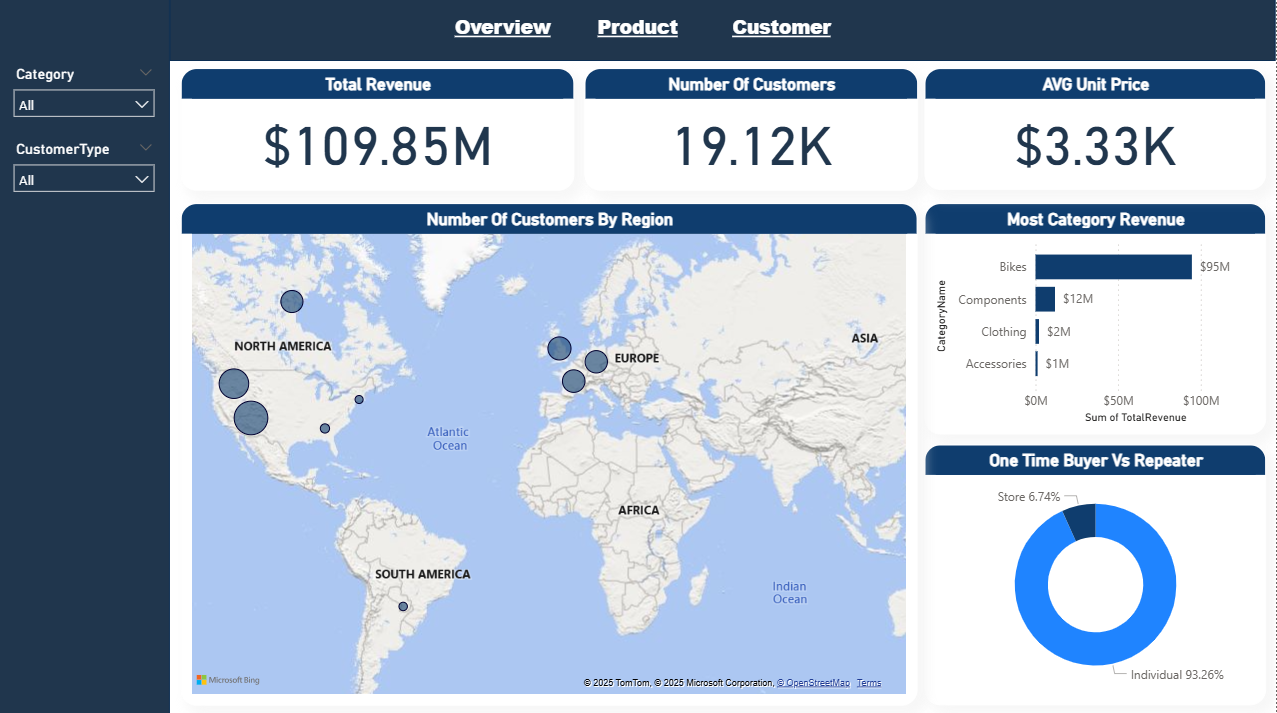

The dashboard page shown, as its layout file describes it:
{"tool":"powerbi","page":{"name":"Overview","canvas":[1280,720],"ordinal":0},"visuals":[{"type":"shape","box":[0,0,172.9,720.4],"z":0},{"type":"clusteredBarChart","title":"Most Category Revenue","fields":{"Category":["vw_ProductRevenueByCategory.CategoryName"],"Y":["Sum(vw_ProductRevenueByCategory.TotalRevenue)"]},"box":[927.1,205.7,341.4,231.4],"z":1000},{"type":"card","title":"Total Revenue","fields":{"Values":["Sum(vw_TotalProductRevenue.TotalRevenue)"]},"box":[183.9,71.3,393.4,122.6],"z":2000},{"type":"card","title":"Number Of Customers","fields":{"Values":["CountNonNull(vw_CustomerAvgOrderValue.CustomerID)"]},"box":[587.3,71.4,333.4,122.1],"z":3000},{"type":"shape","box":[173,0,1107,64],"z":4000},{"type":"donutChart","title":"One Time Buyer Vs Repeater","fields":{"Y":["CountNonNull(vw_CustomerType.CustomerID)"],"Category":["vw_CustomerType.CustomerType"]},"box":[927.6,447.3,341.7,260.7],"z":5000},{"type":"map","title":"Number Of Customers By Region","fields":{"Size":["Sum(vw_CustomerByTerritory.CustomerCount)"],"Category":["vw_CustomerByTerritory.TerritoryName"]},"box":[183.9,205.8,736.9,502.2],"z":6000},{"type":"slicer","fields":{"Values":["vw_ProductRevenueByCategory.CategoryName"]},"box":[5.7,64.3,161.4,74.3],"z":7000},{"type":"slicer","fields":{"Values":["vw_CustomerType.CustomerType"]},"box":[5.7,138.6,161.4,72.9],"z":9000},{"type":"actionButton","title":"Product","box":[568.8,16.2,143.8,33.8],"z":10000},{"type":"actionButton","title":"Overview","box":[433.8,16.2,143.8,33.8],"z":11000},{"type":"actionButton","title":"Customer","box":[712.5,16.2,143.8,33.8],"z":12000},{"type":"card","title":"AVG Unit Price","fields":{"Values":["Max(vw_ProductAvgPriceDiscount.AvgUnitPrice)"]},"box":[927.1,71.4,341.4,121.4],"z":12001}]}

Visuals, with their boxes in screenshot pixels (x1, y1, x2, y2), scaled from the page's 1280x720 canvas onto the 1277x713 screenshot:
shape: 0:0:172:712
"Most Category Revenue" clusteredBarChart: 925:204:1266:433
"Total Revenue" card: 183:71:576:192
"Number Of Customers" card: 586:71:919:192
shape: 173:0:1276:63
"One Time Buyer Vs Repeater" donutChart: 925:443:1266:701
"Number Of Customers By Region" map: 183:204:919:701
slicer - vw_ProductRevenueByCategory.CategoryName: 6:64:167:137
slicer - vw_CustomerType.CustomerType: 6:137:167:209
"Product" actionButton: 567:16:711:50
"Overview" actionButton: 433:16:576:50
"Customer" actionButton: 711:16:854:50
"AVG Unit Price" card: 925:71:1266:191
